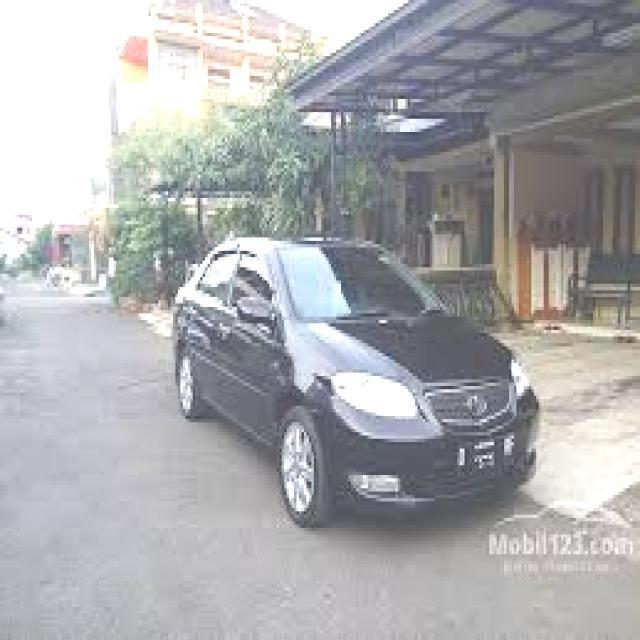ToyotaVios: (171, 232, 540, 529)
